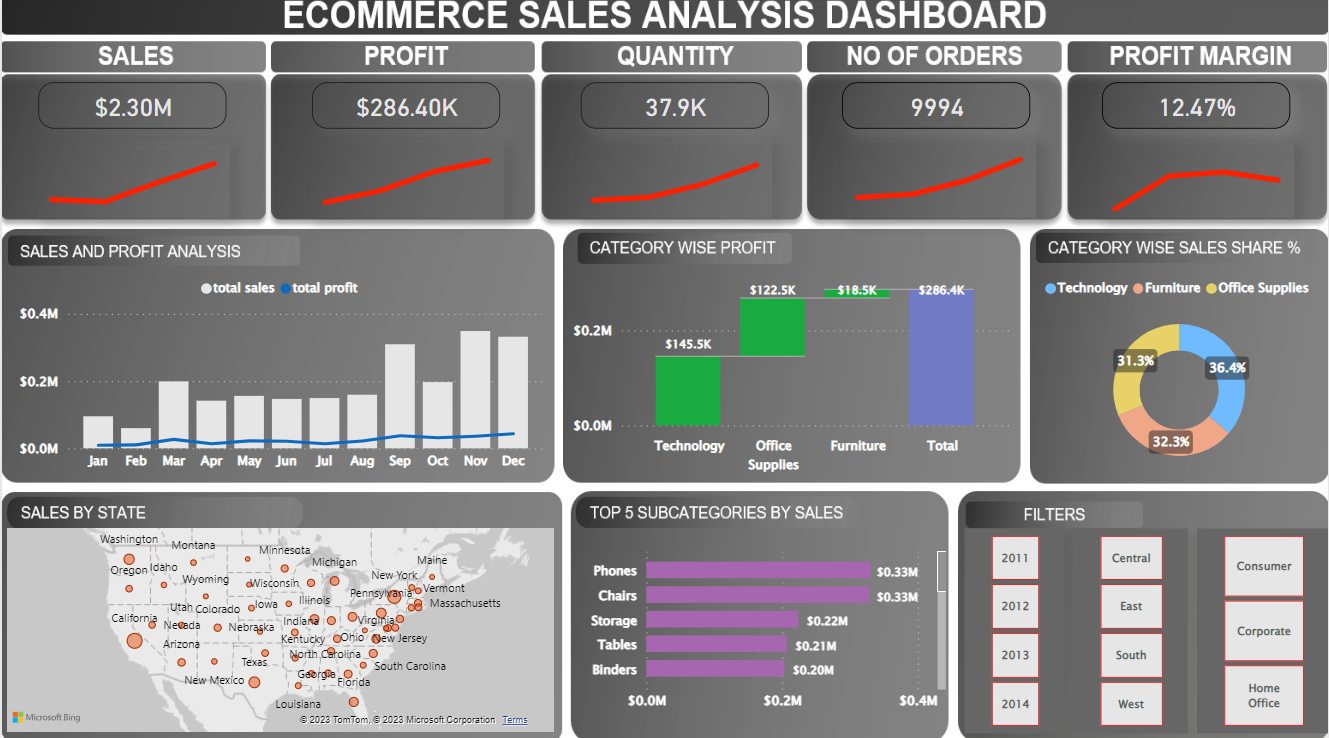

What the dashboard file says about the page in this screenshot:
{"tool":"powerbi","page":{"name":"Page 1","canvas":[1280,720],"ordinal":0},"visuals":[{"type":"lineClusteredColumnComboChart","fields":{"Category":["Data.month"],"Y":["measure table.total sales"],"Y2":["measure table.total profit"]},"box":[12.5,262.5,515,206.2],"z":0},{"type":"slicer","fields":{"Values":["Data.Year"]},"box":[928.8,513.8,96.2,197.5],"z":1000},{"type":"slicer","fields":{"Values":["Data.Region"]},"box":[1033.8,513.8,110,197.5],"z":2000},{"type":"slicer","fields":{"Values":["Data.Segment"]},"box":[1152.5,513.8,127.5,197.5],"z":3000},{"type":"waterfallChart","fields":{"Category":["Data.Category"],"Y":["measure table.total profit"]},"box":[546.2,262.5,431.2,207.5],"z":4000},{"type":"donutChart","fields":{"Category":["Data.Category"],"Y":["measure table.total sales"]},"box":[991.2,262.5,288.8,206.2],"z":5000},{"type":"map","fields":{"Size":["measure table.total sales"],"Category":["Data.State"]},"box":[0,508.8,537.5,206.2],"z":6000},{"type":"barChart","fields":{"Category":["Data.Sub-Category"],"Y":["measure table.total sales"]},"box":[537.5,523.8,377.5,177.5],"z":7000},{"type":"card","fields":{"Values":["measure table.Profit Margin%"]},"box":[1061.2,83.8,181.2,45],"z":8000},{"type":"lineChart","fields":{"Y":["measure table.Profit Margin%"],"Category":["Data.Year"]},"box":[1058.8,138.8,187.5,75],"z":9000},{"type":"card","fields":{"Values":["measure table.total quantity"]},"box":[558.8,83.8,181.2,45],"z":10000},{"type":"lineChart","fields":{"Category":["Data.Year"],"Y":["measure table.total quantity"]},"box":[556.2,138.8,187.5,75],"z":11000},{"type":"card","fields":{"Values":["measure table.total profit"]},"box":[298.8,83.8,181.2,45],"z":12000},{"type":"lineChart","fields":{"Category":["Data.Year"],"Y":["measure table.total profit"]},"box":[296.2,138.8,187.5,75],"z":13000},{"type":"card","fields":{"Values":["measure table.total sales"]},"box":[35,83.8,181.2,45],"z":14000},{"type":"lineChart","fields":{"Category":["Data.Year"],"Y":["measure table.total sales"]},"box":[32.5,138.8,187.5,75],"z":15000},{"type":"card","fields":{"Values":["measure table.No Of Orders"]},"box":[810,83.8,181.2,45],"z":16000},{"type":"lineChart","fields":{"Category":["Data.Year"],"Y":["measure table.No Of Orders"]},"box":[810,138.8,187.5,75],"z":17000}]}

Visuals, with their boxes in screenshot pixels (x1, y1, x2, y2), scaled from the page's 1280x720 canvas onto the 1329x738 screenshot:
lineClusteredColumnComboChart - Data.month x measure table.total sales: locate(13, 269, 548, 480)
slicer - Data.Year: locate(964, 527, 1064, 729)
slicer - Data.Region: locate(1073, 527, 1188, 729)
slicer - Data.Segment: locate(1197, 527, 1328, 729)
waterfallChart - Data.Category x measure table.total profit: locate(567, 269, 1015, 482)
donutChart - Data.Category x measure table.total sales: locate(1029, 269, 1328, 480)
map - measure table.total sales x Data.State: locate(0, 522, 558, 733)
barChart - Data.Sub-Category x measure table.total sales: locate(558, 537, 950, 719)
card - measure table.Profit Margin%: locate(1102, 86, 1290, 132)
lineChart - measure table.Profit Margin% x Data.Year: locate(1099, 142, 1294, 219)
card - measure table.total quantity: locate(580, 86, 768, 132)
lineChart - Data.Year x measure table.total quantity: locate(577, 142, 772, 219)
card - measure table.total profit: locate(310, 86, 498, 132)
lineChart - Data.Year x measure table.total profit: locate(308, 142, 502, 219)
card - measure table.total sales: locate(36, 86, 224, 132)
lineChart - Data.Year x measure table.total sales: locate(34, 142, 228, 219)
card - measure table.No Of Orders: locate(841, 86, 1029, 132)
lineChart - Data.Year x measure table.No Of Orders: locate(841, 142, 1036, 219)
